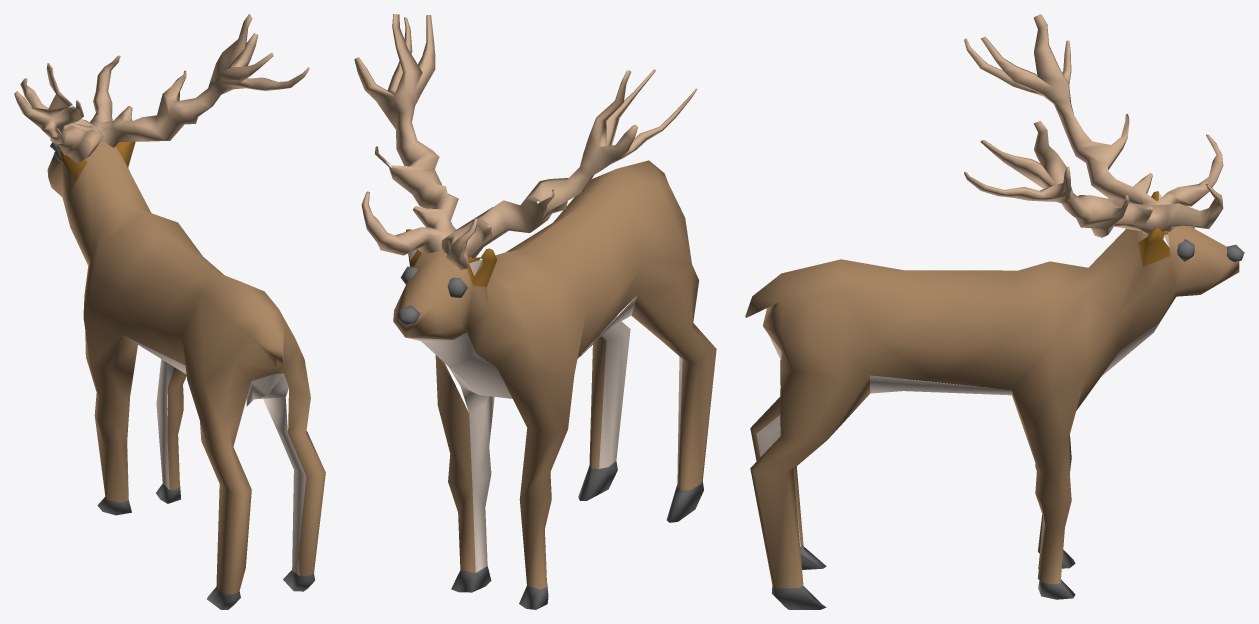
File: animals-deer-066.glb
3 renders of one model, left to right at view 1: azimuth 30°, elevation 25°; view 2: azimuth 150°, elevation 25°; view 3: azimuth 270°, elevation 25°, orthographic. The views are drawn at different scales.
Visible parts, largest first — view 1: Deer.1; view 2: Deer.1; view 3: Deer.1.
Part boxes in pixels (x1,y1,x2,y2): Deer.1: (14,14,325,609); Deer.1: (354,14,716,609); Deer.1: (745,14,1244,609).
Size of the model in its own units: 228 by 411 by 358.
